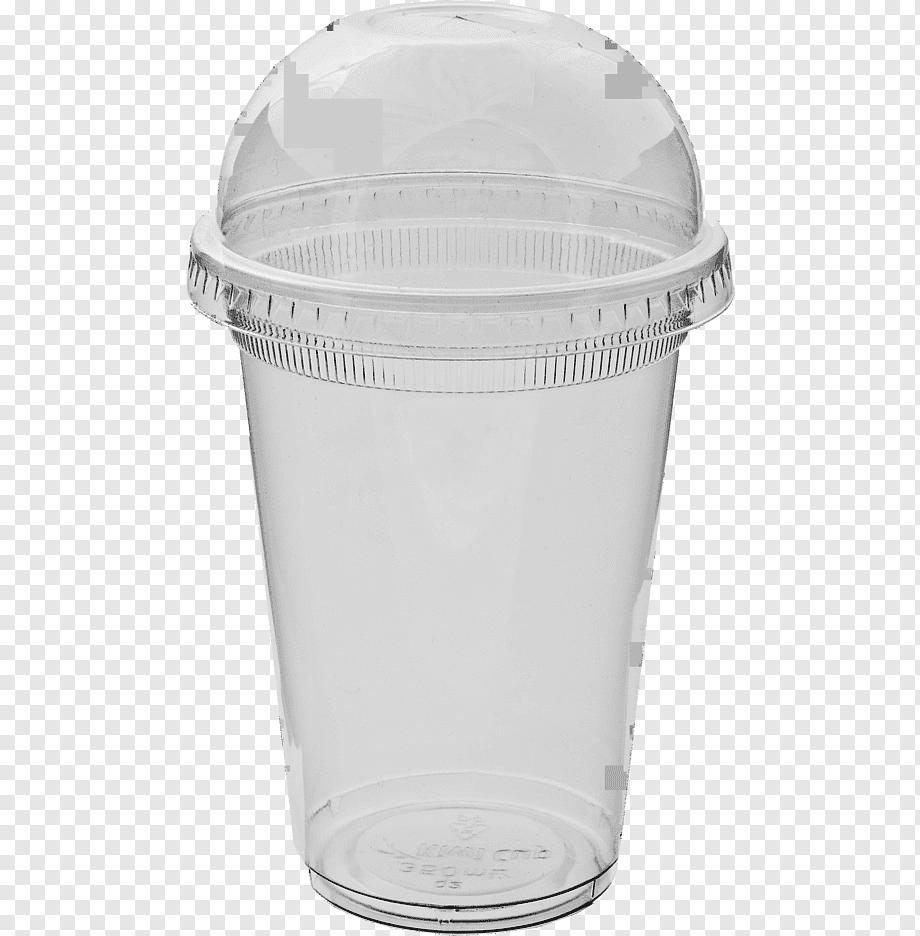plastic_glass: (104, 1, 869, 936)
